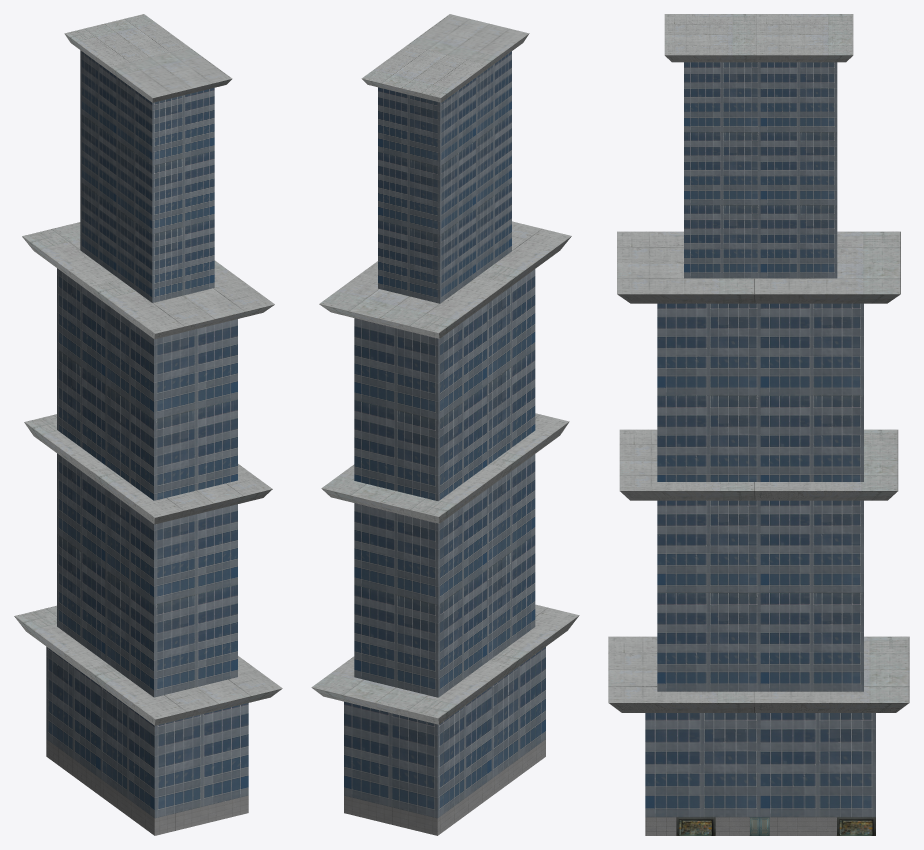
File: Building030.fbx
3 views of the same model, side by side, from view 1: azimuth 30°, elevation 25°; view 2: azimuth 150°, elevation 25°; view 3: azimuth 270°, elevation 25° (orthographic). The views are drawn at different scales.
Visible parts, largest first — view 1: Building030; view 2: Building030; view 3: Building030.
Part boxes in pixels (<box>): Building030: <box>14,14,282,835</box>; Building030: <box>311,14,579,835</box>; Building030: <box>608,14,909,835</box>.
Size of the model in its own units: 19.36 by 106 by 37.19.
